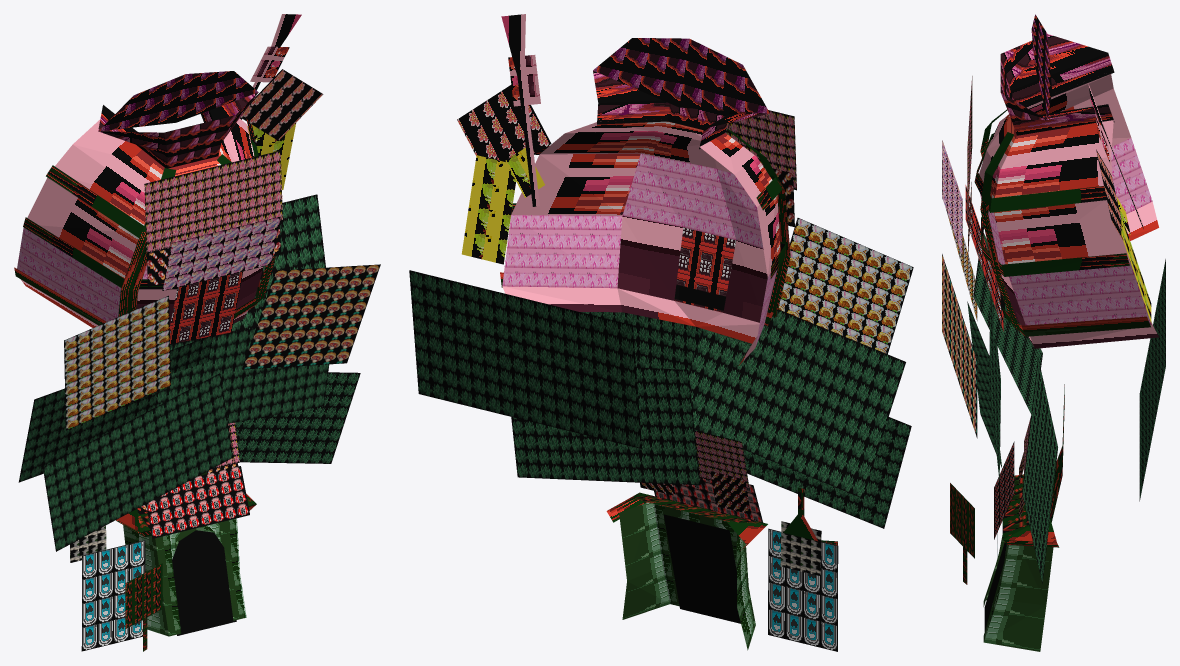
Rendered from tp_kimo00.gltf.
The picture shows the model from 3 angles, left to right: view 1: azimuth 30°, elevation 25°; view 2: azimuth 150°, elevation 25°; view 3: azimuth 270°, elevation 25°; orthographic projection. The views are drawn at different scales.
Parts seen in each view (by area): view 1: tp_kimo00; view 2: tp_kimo00; view 3: tp_kimo00.
Part boxes in pixels (left/top/right/bottom): tp_kimo00: left=14, top=14, right=380, bottom=651; tp_kimo00: left=409, top=14, right=913, bottom=651; tp_kimo00: left=942, top=14, right=1165, bottom=651.
Bounding box in the file's own units: 4.97 × 7.07 × 2.36.
19 materials, 19 textured.
